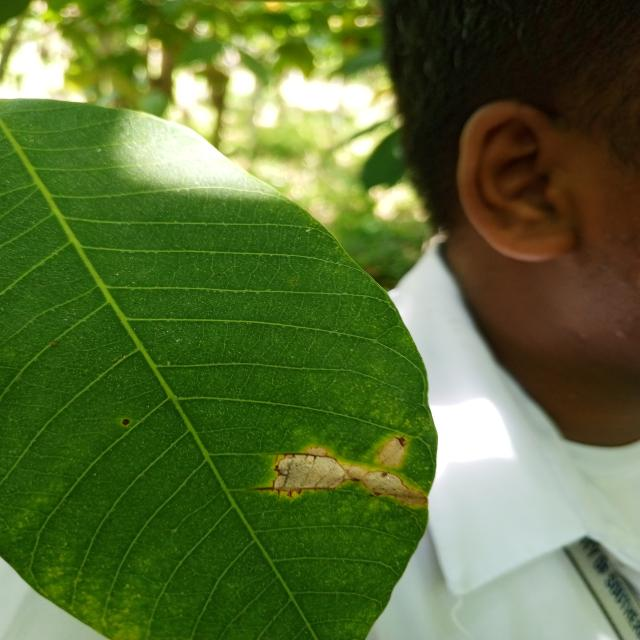Colletotrichum: (122, 419, 130, 425)
Corynespora: (253, 480, 334, 500), (269, 452, 318, 462)
Leaf-Blight: (276, 445, 350, 490), (348, 465, 427, 507), (377, 437, 406, 467)
